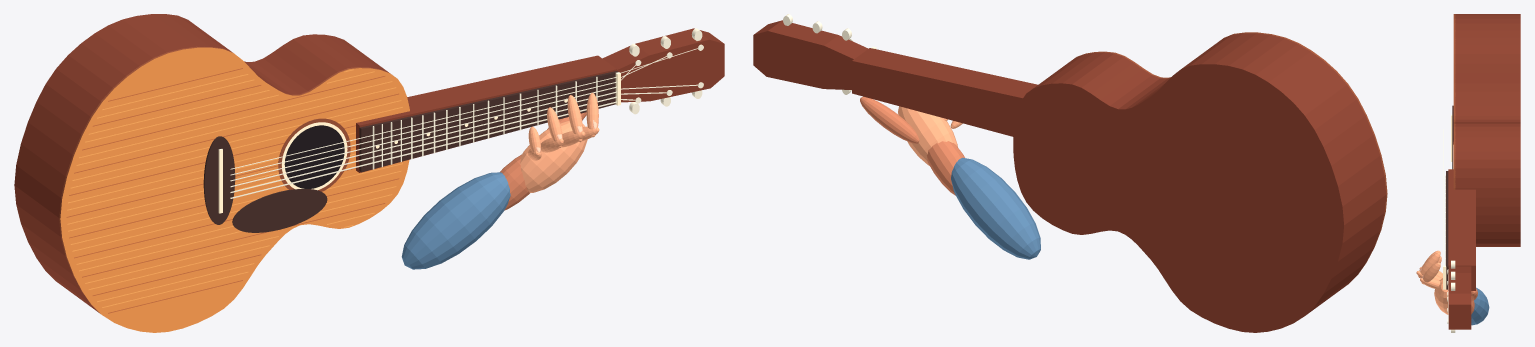
Rendered from SeatedGuitarReference.glb.
3 renders of one model, left to right at view 1: azimuth 30°, elevation 25°; view 2: azimuth 150°, elevation 25°; view 3: azimuth 270°, elevation 25°, orthographic. The views are drawn at different scales.
Visible parts, largest first — view 1: Honey spruce, Warm rosewood, Fretboard and pickguard, Light spruce grain, Nickel strings and frets, Blue sleeve, Warm skin, Open spruce grain, Sound hole, Rosewood binding, Bone nut and saddle, Hand contour; view 2: Warm rosewood, Blue sleeve, Hand contour, Warm skin, Rosewood binding; view 3: Warm rosewood, Warm skin, Rosewood binding, Nickel strings and frets, Blue sleeve, Fretboard and pickguard, Bone nut and saddle, Hand contour.
Part boxes in pixels (x1=…): Honey spruce: x1=60, y1=47, x2=409, y2=332; Warm rosewood: x1=14, y1=14, x2=724, y2=312; Fretboard and pickguard: x1=203, y1=71, x2=618, y2=232; Light spruce grain: x1=67, y1=69, x2=402, y2=307; Nickel strings and frets: x1=230, y1=28, x2=703, y2=198; Blue sleeve: x1=401, y1=172, x2=510, y2=269; Warm skin: x1=520, y1=93, x2=599, y2=192; Open spruce grain: x1=66, y1=68, x2=399, y2=313; Sound hole: x1=284, y1=125, x2=344, y2=188; Rosewood binding: x1=59, y1=46, x2=388, y2=313; Bone nut and saddle: x1=218, y1=72, x2=620, y2=213; Hand contour: x1=500, y1=112, x2=586, y2=210; Warm rosewood: x1=753, y1=20, x2=1386, y2=332; Blue sleeve: x1=951, y1=157, x2=1040, y2=259; Hand contour: x1=860, y1=96, x2=964, y2=195; Warm skin: x1=898, y1=106, x2=962, y2=165; Rosewood binding: x1=1076, y1=32, x2=1387, y2=284; Warm rosewood: x1=1448, y1=14, x2=1520, y2=329; Warm skin: x1=1416, y1=250, x2=1448, y2=314; Rosewood binding: x1=1453, y1=14, x2=1455, y2=189; Nickel strings and frets: x1=1443, y1=129, x2=1455, y2=332; Blue sleeve: x1=1471, y1=287, x2=1489, y2=325; Fretboard and pickguard: x1=1446, y1=105, x2=1453, y2=289; Bone nut and saddle: x1=1443, y1=114, x2=1453, y2=289; Hand contour: x1=1471, y1=288, x2=1477, y2=314.
Size of the model in its own units: 0.96 by 0.4 by 0.18.
